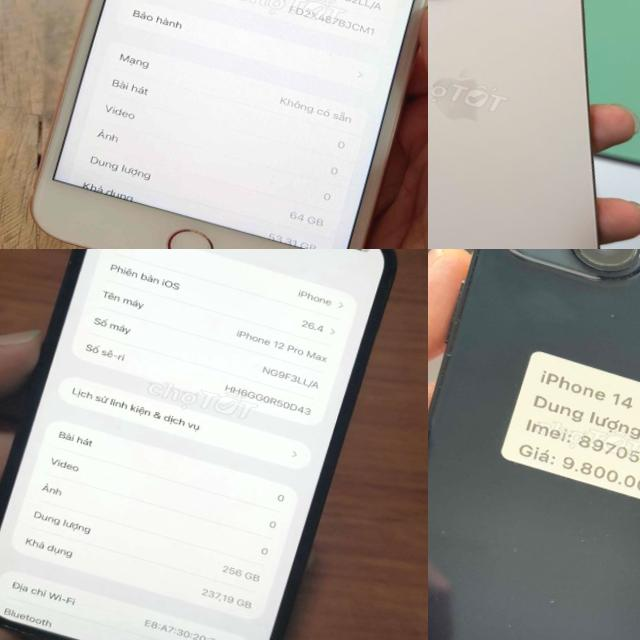gen_12_13: (0, 249, 400, 640)
gen_14: (428, 249, 640, 640)
gen_16: (428, 0, 598, 249)
gen_7_8: (18, 0, 428, 249)
scratch: (553, 249, 640, 313), (544, 594, 586, 636), (481, 631, 528, 640)
